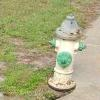a fire hydrant: (53, 14, 80, 94)
